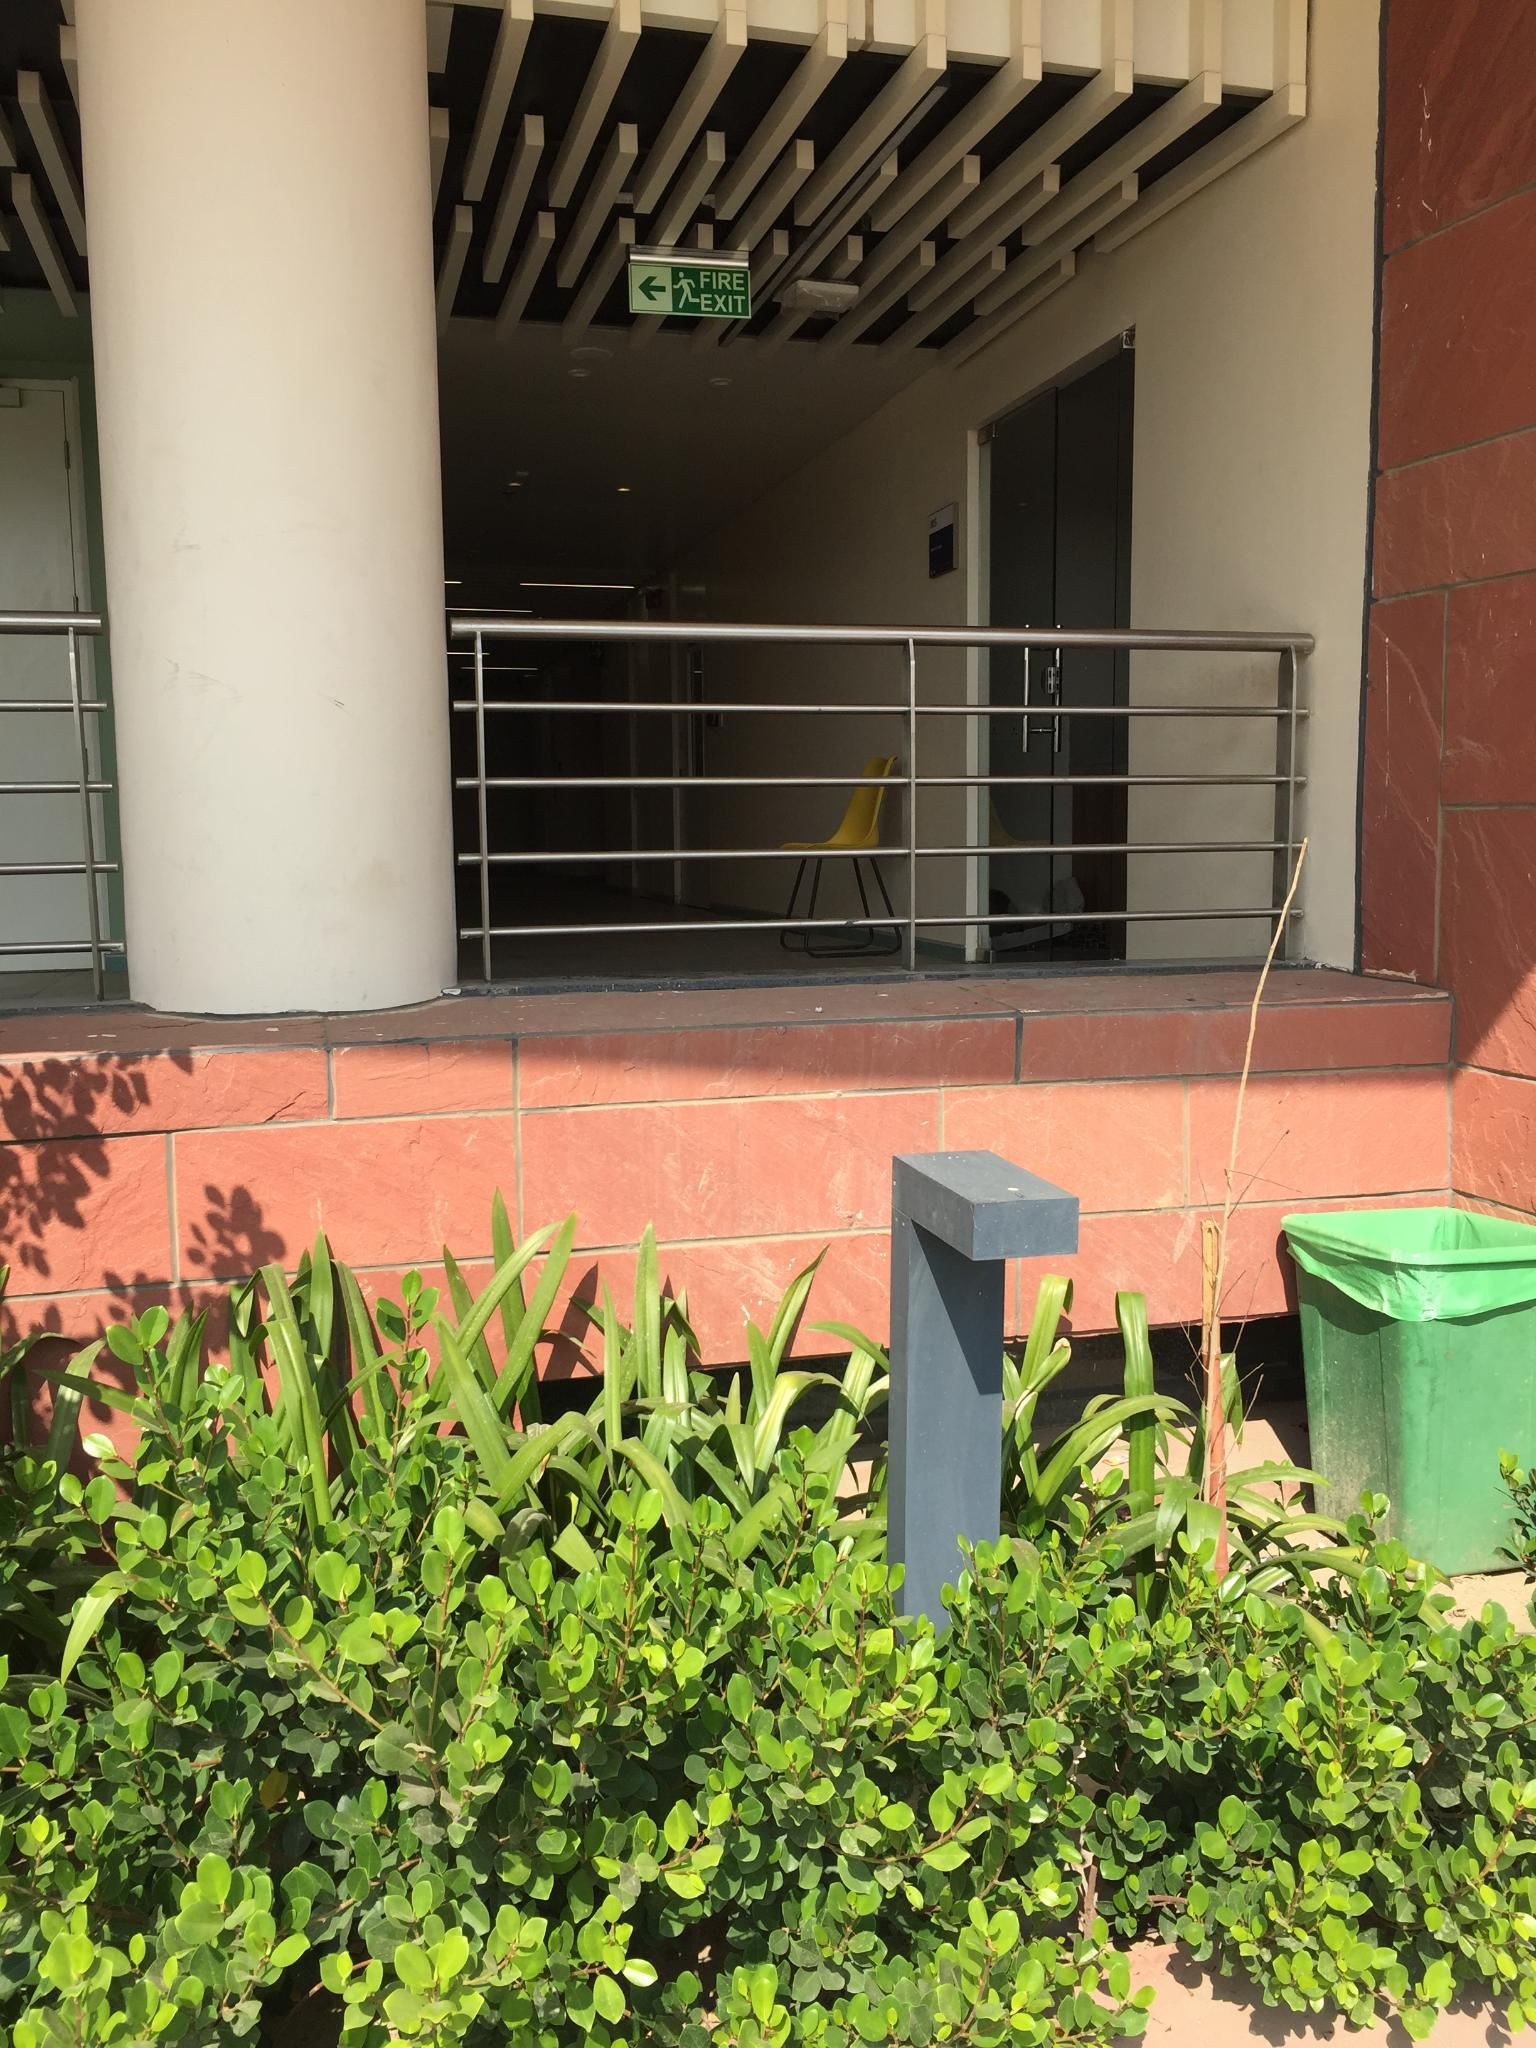chair: (778, 753, 902, 956)
